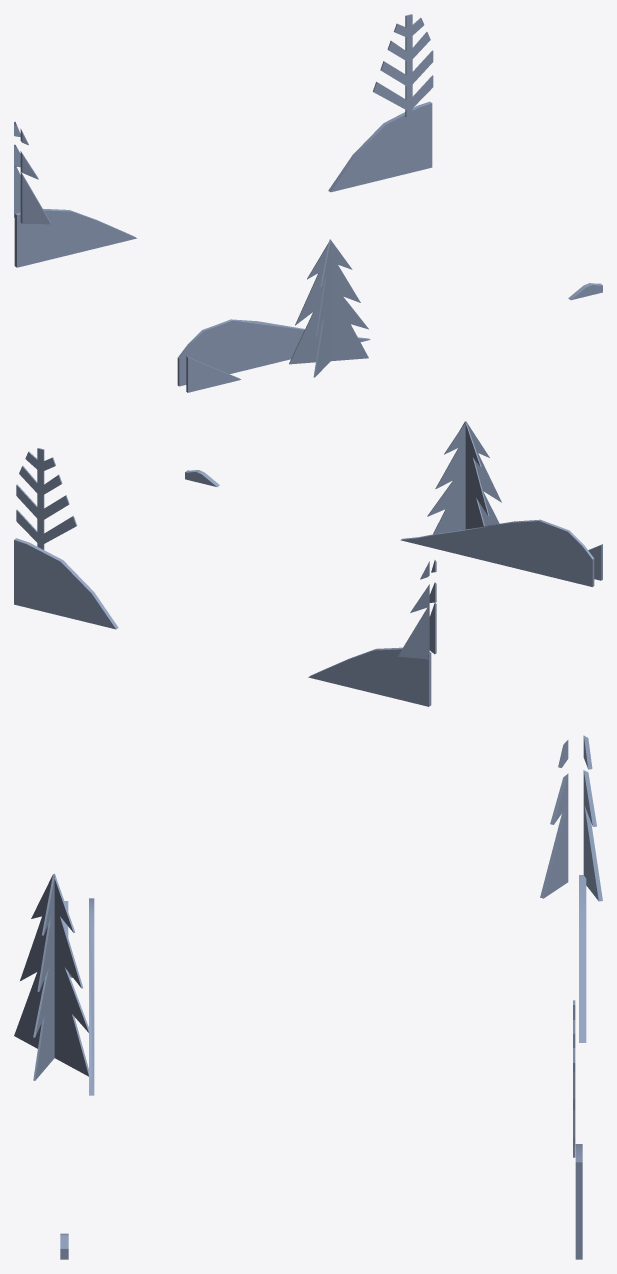
File: frame_0160.glb
3 views of the same model, one above another, from view 1: azimuth 30°, elevation 25°; view 2: azimuth 150°, elevation 25°; view 3: azimuth 270°, elevation 25° (orthographic). The views are drawn at different scales.
Visible parts, largest first — view 1: export_trees_001.002; view 2: export_trees_001.002; view 3: export_trees_001.002.
Part boxes in pixels (box(x1,y1,x2,y2)): export_trees_001.002: box(14, 14, 602, 392); export_trees_001.002: box(14, 421, 602, 706); export_trees_001.002: box(14, 735, 602, 1259).
Size of the model in its own units: 0.4327 by 0.1584 by 0.3529.
